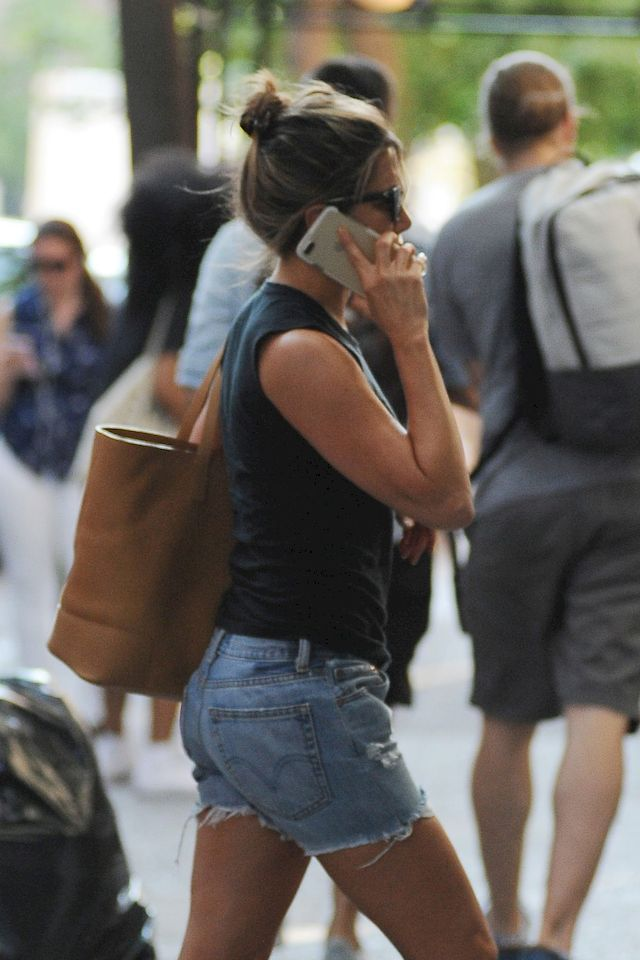phone: (293, 206, 407, 300)
talk: (294, 176, 429, 335)
